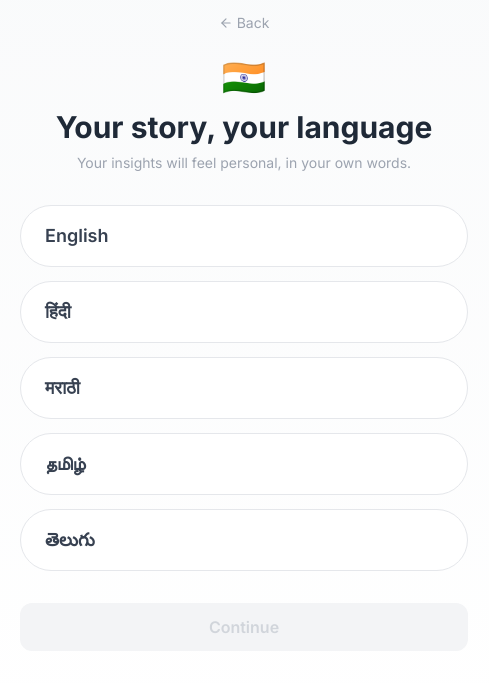
Test: LanguageSelector Component › enables continue button and calls onSelect when language chosen
The width and height of the screenshot is (489, 683).
Later steps or results of the test are not shown.
Expected: the button "Continue" is disabled, x1=20 y1=603 x2=468 y2=651
Note: Click on Hindi option
Click the button "हिंदी": (58, 312) x1=20 y1=281 x2=468 y2=343
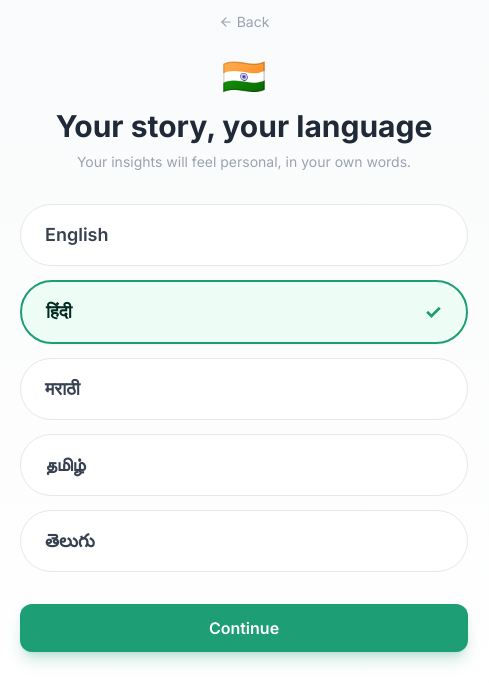
Now the button "Continue" is enabled, box x1=20 y1=604 x2=468 y2=652
